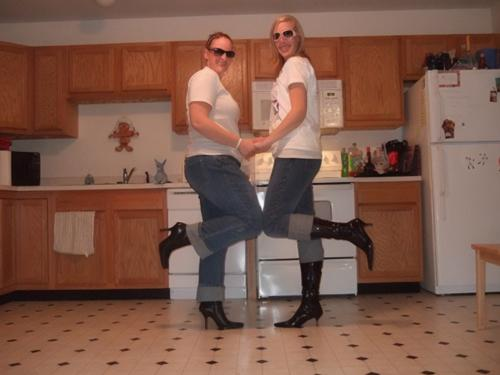bottle: (348, 142, 365, 178), (374, 147, 386, 177), (340, 146, 350, 181), (85, 163, 97, 189)
cat: (155, 159, 166, 186)
person: (261, 14, 380, 332), (158, 29, 265, 335)
person/foot: (156, 222, 187, 271), (349, 218, 374, 272), (199, 303, 243, 330), (273, 306, 323, 328)
person/hand: (239, 138, 257, 159), (254, 138, 268, 153)
person/head: (203, 33, 234, 73), (272, 14, 300, 58)
